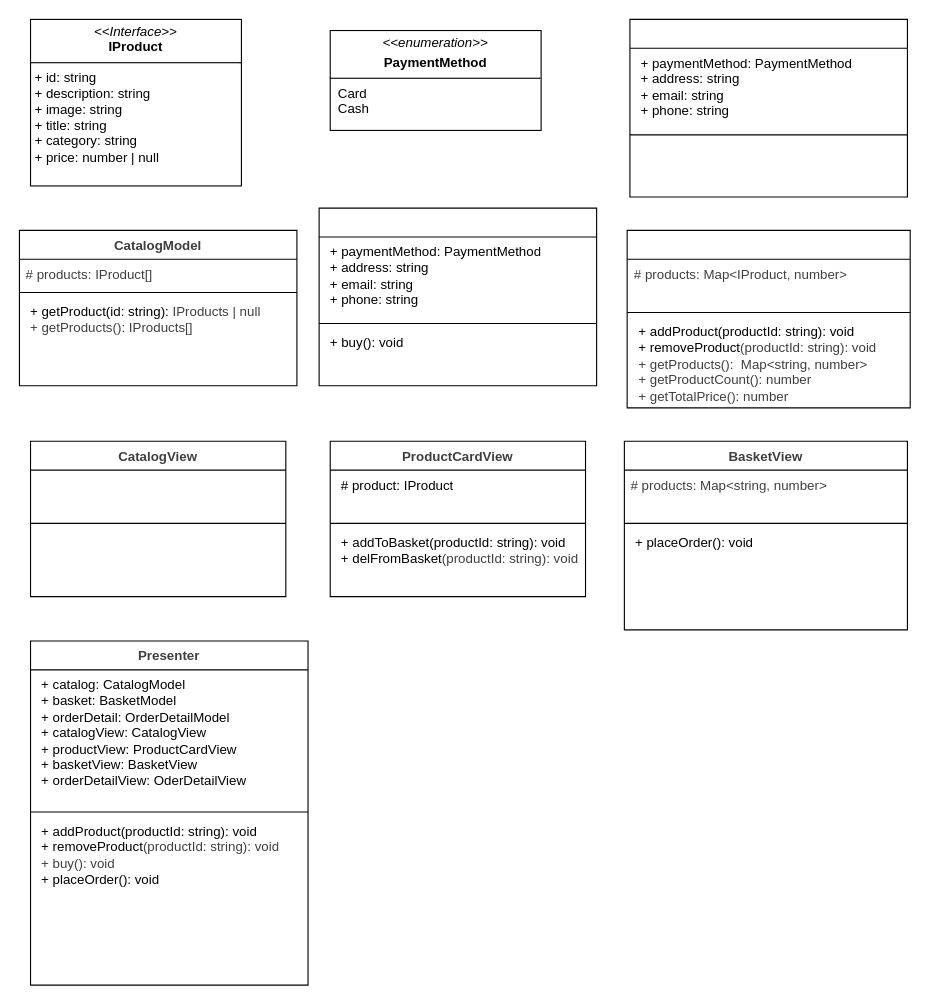
The diagram is 930 pixels wide and 1008 high, and some of its shapes have lost their labels. The box of each missing label's shape, as (x1, y1, x2, y2) in pixels:
BasketModel: (626, 229, 910, 408)
OrderDetail Model: (629, 18, 907, 197)
OrderDetailView: (318, 207, 597, 386)
